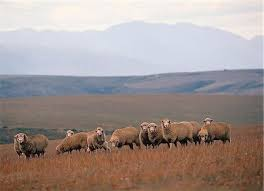sheep: (164, 115, 197, 150), (10, 132, 52, 159), (110, 126, 149, 153), (208, 116, 240, 147), (53, 130, 84, 156), (86, 126, 110, 157), (148, 120, 169, 150), (140, 119, 155, 146)
